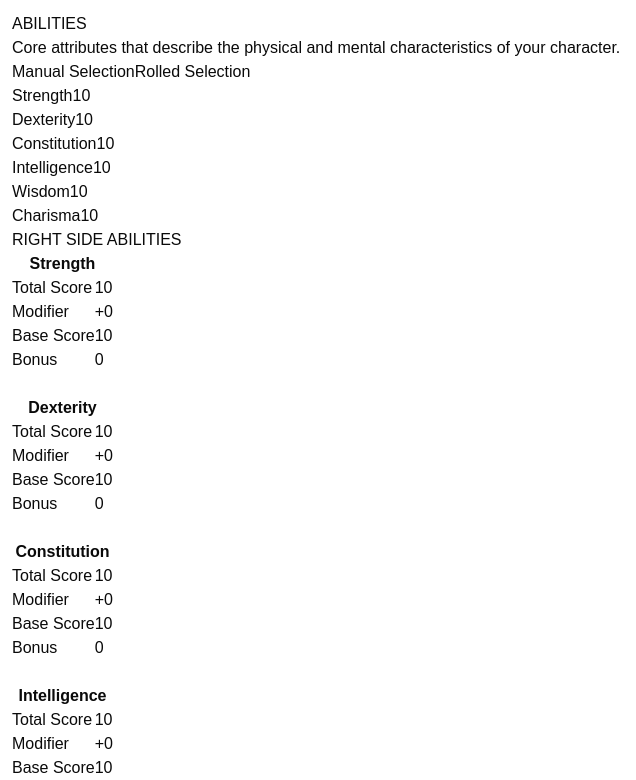
it: Abilities: manual selection › Resets to default when input is emptied
Type "15" into the number field labelled "Strength" at (100, 96), box x1=72 y1=84 x2=128 y2=108
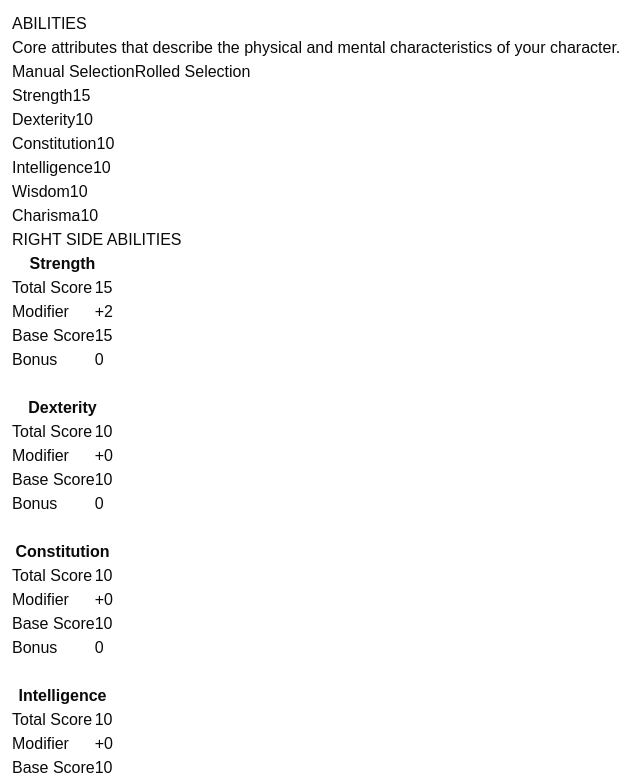
Clear the number field labelled "Strength" at (100, 96), box x1=72 y1=84 x2=128 y2=108
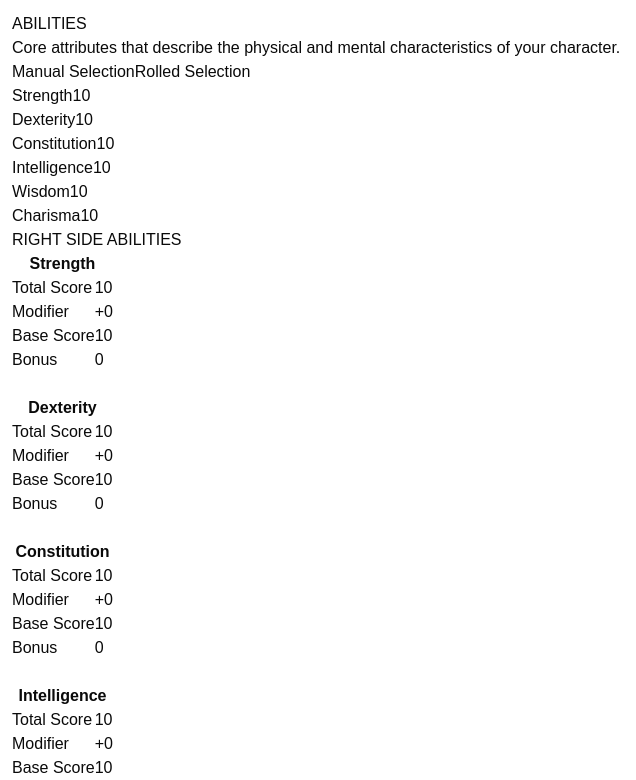
Result: the number field labelled "Strength" holds "10" at x1=72 y1=84 x2=128 y2=108
